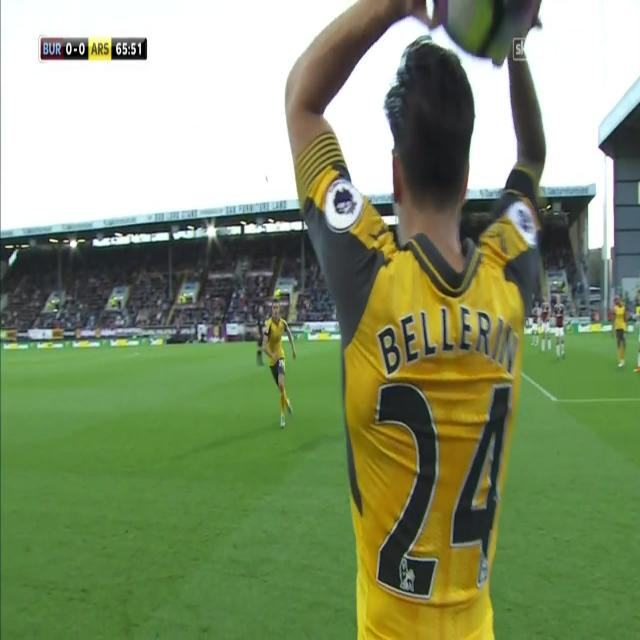Ball: (434, 0, 544, 62)
Player: (282, 0, 550, 640), (261, 298, 300, 429), (610, 292, 630, 368), (551, 295, 569, 360), (540, 294, 551, 355)
